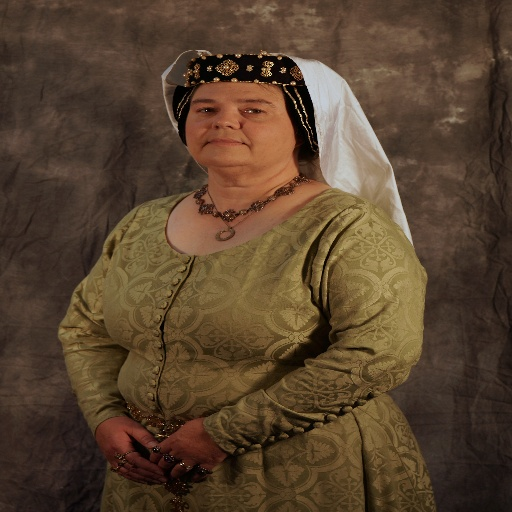hand: (96, 414, 158, 485), (148, 424, 213, 475)
